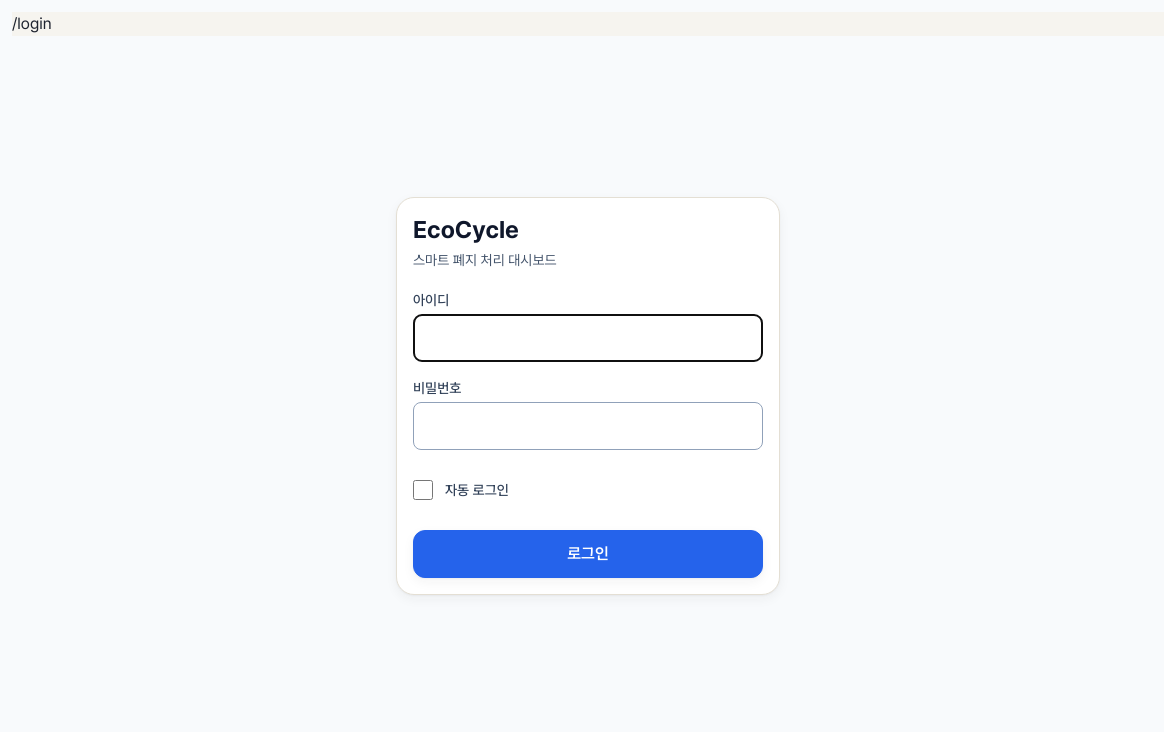
Test: LoginPage › 비어 있으면 서버에 보내지 않고 안내한다
The width and height of the screenshot is (1164, 732).
What coordinates should you click on to do the following:
click the button "로그인"
I would click on:
 (588, 554)
Its box is x1=413 y1=530 x2=763 y2=578.
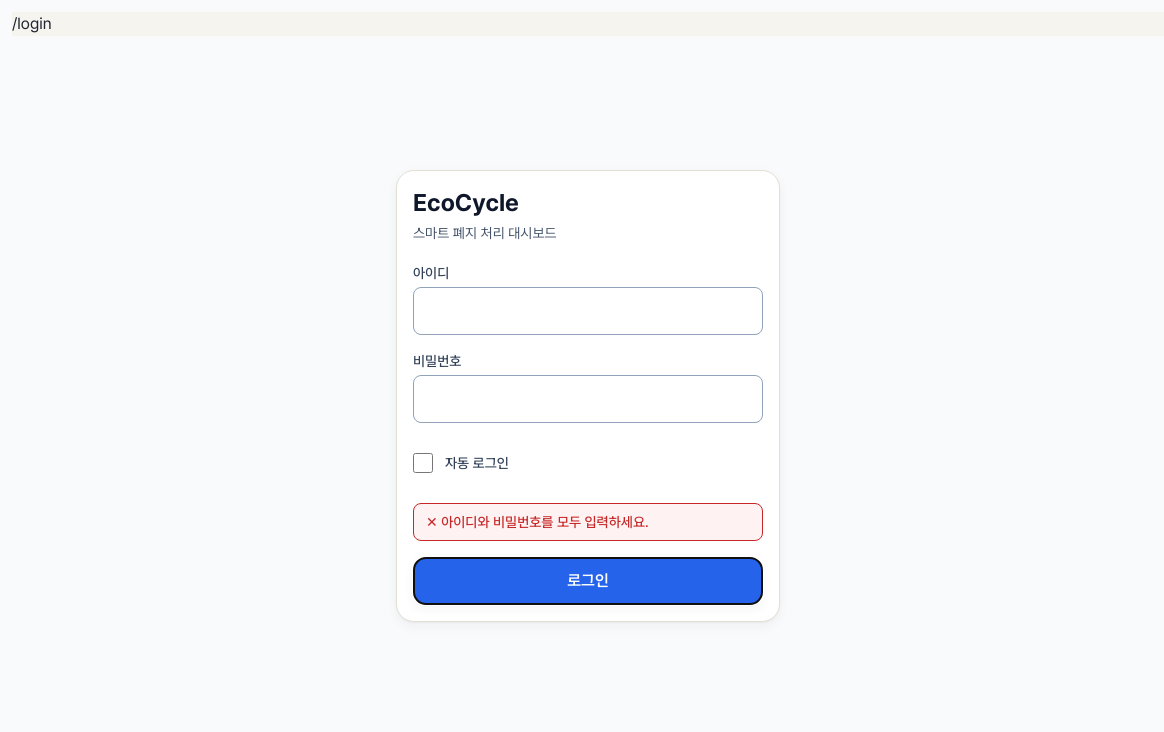
Expected: the message shows "모두 입력", x1=441 y1=514 x2=649 y2=530
